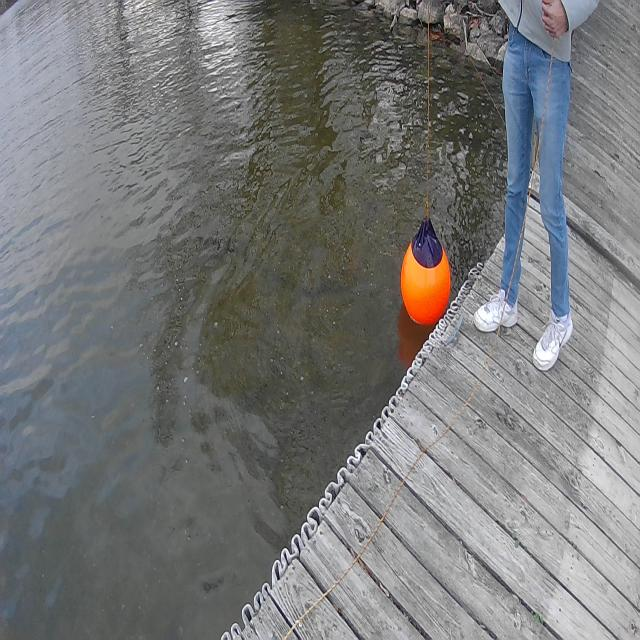Buoy: (398, 210, 452, 332)
